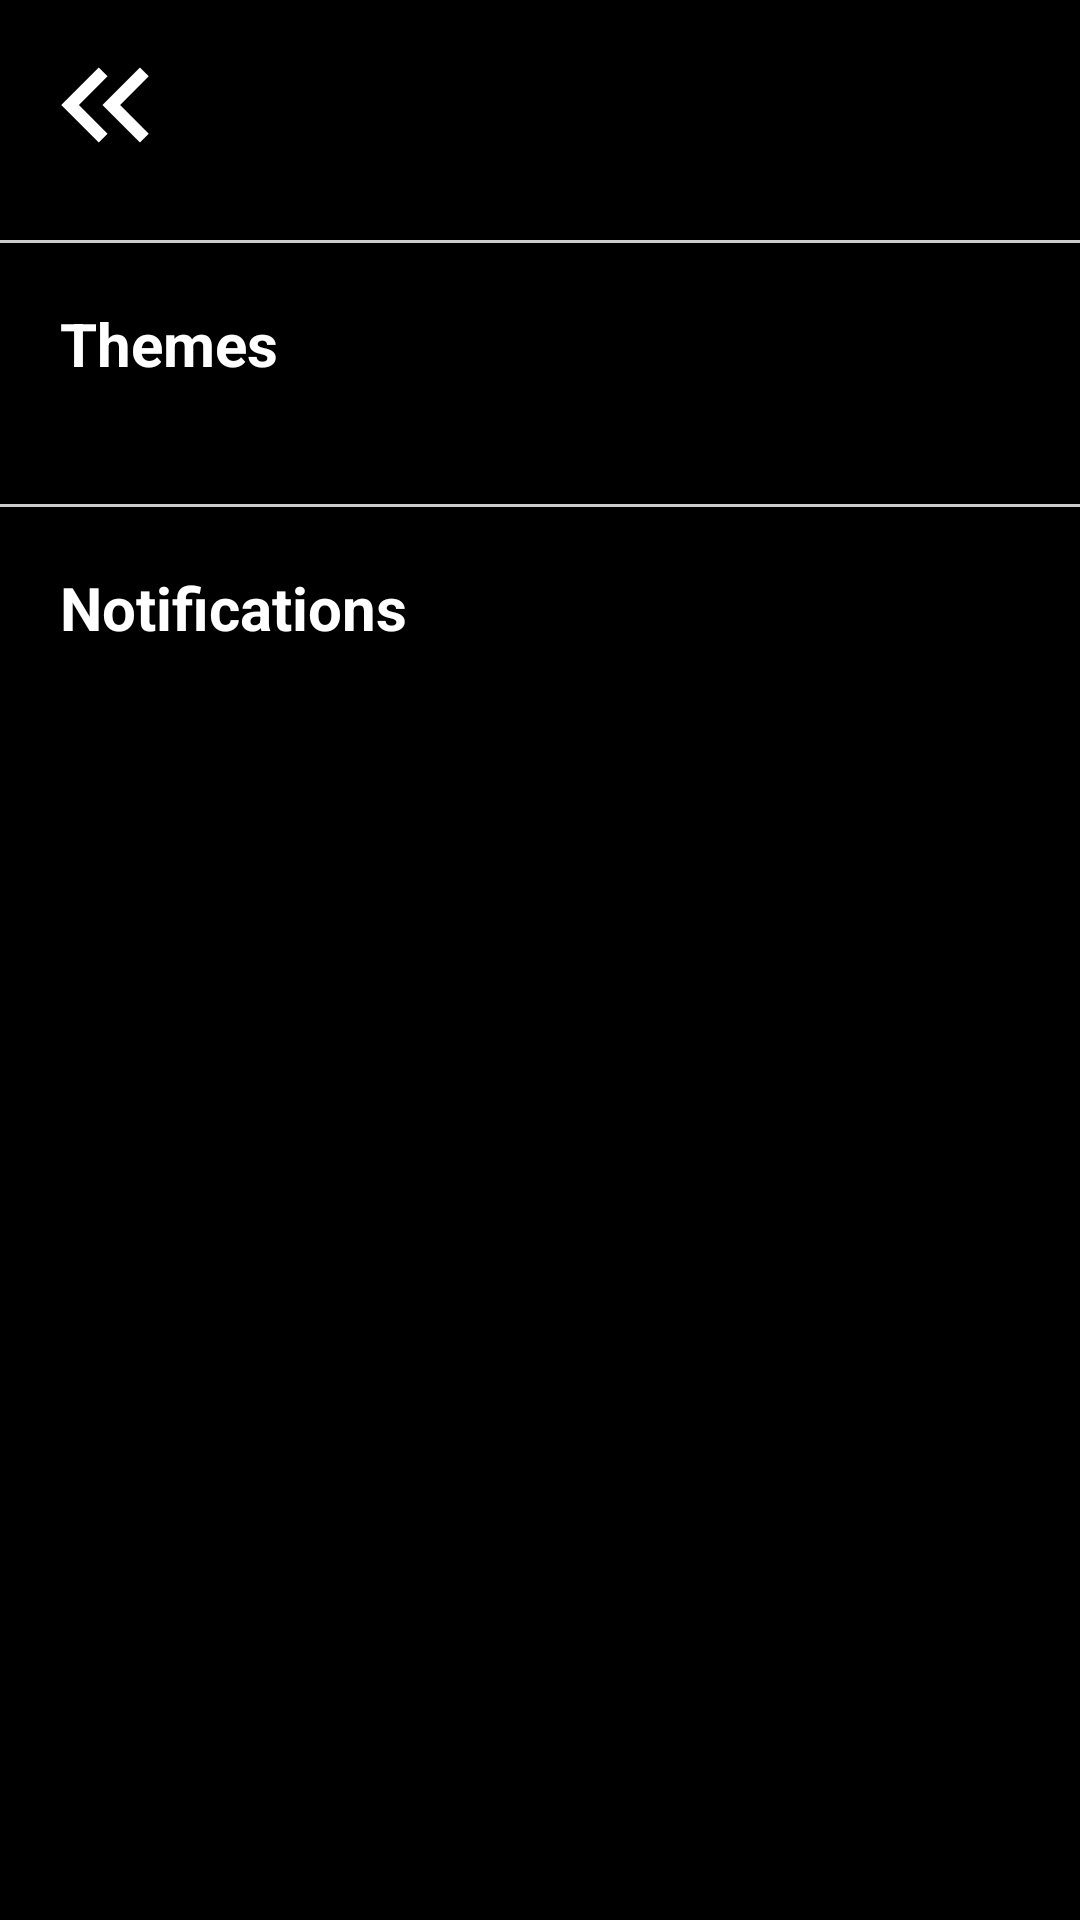

Icons on this 1080x1920 Android screen, each with the point to tap as (x,y):
keyboard double arrow left: (105,105)
